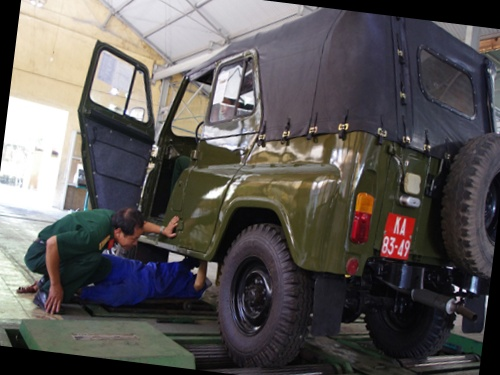plate: (381, 212, 411, 264)
